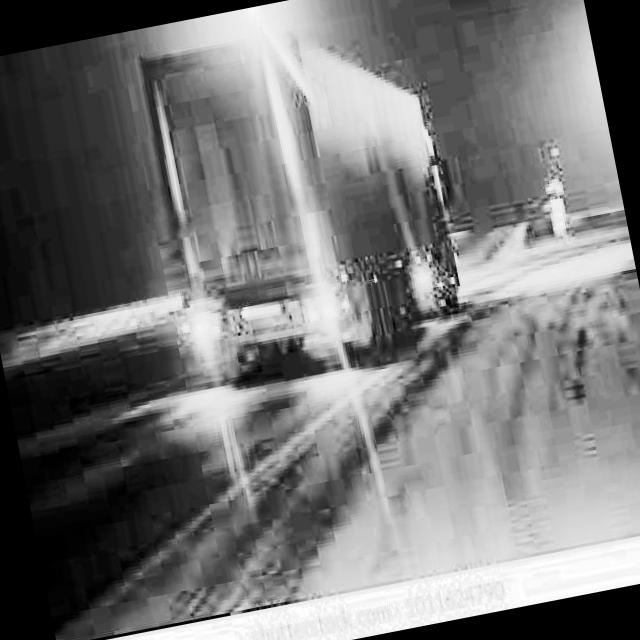Truck: (125, 0, 480, 402)
